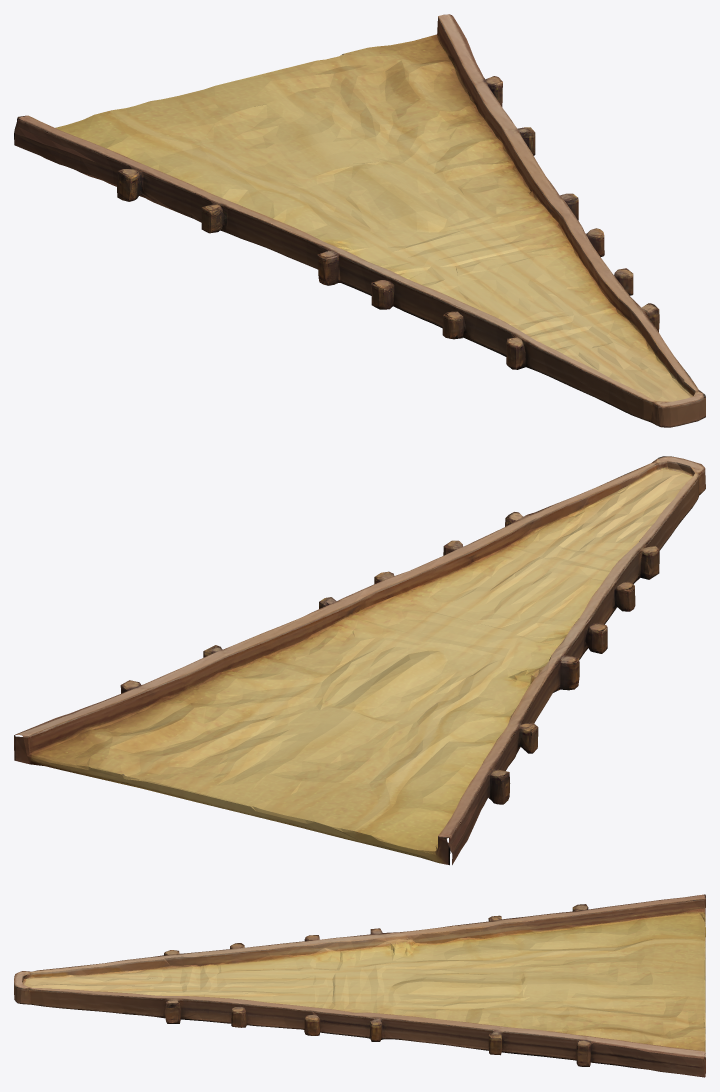
The model's file is road.glb.
3 views of the same model, one above another, from view 1: azimuth 30°, elevation 25°; view 2: azimuth 150°, elevation 25°; view 3: azimuth 270°, elevation 25° (orthographic). The views are drawn at different scales.
Parts seen in each view (by area): view 1: world; view 2: world; view 3: world.
Boxes of the visible parts, <box> form: world: <box>14,14,705,427</box>; world: <box>14,456,705,865</box>; world: <box>14,894,705,1077</box>.
Bounding box in the file's own units: 0.5571 × 0.0382 × 1.
Materials: 1 (1 with a texture image).
